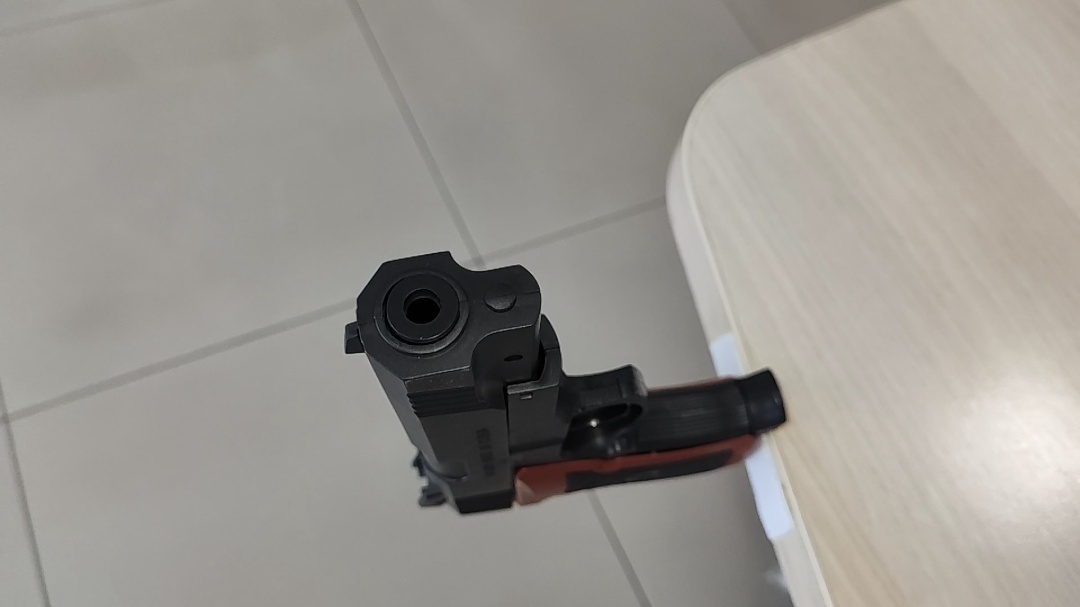gun: (371, 257, 405, 291)
